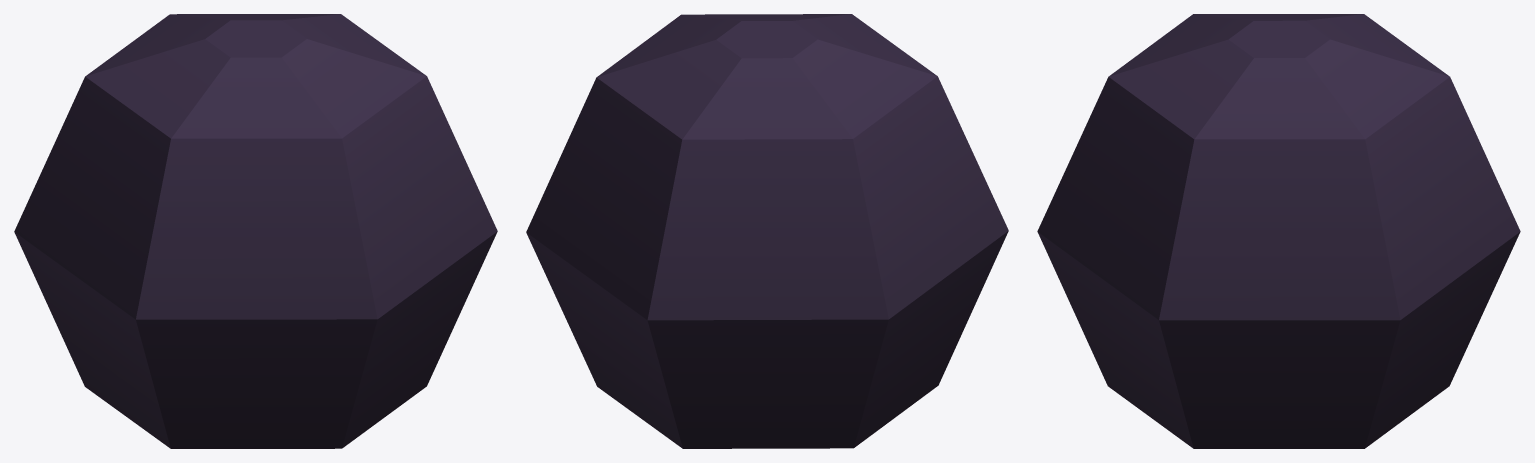
The model's file is Blackberry Piece.fbx.
3 views of the same model, side by side, from view 1: azimuth 30°, elevation 25°; view 2: azimuth 150°, elevation 25°; view 3: azimuth 270°, elevation 25° (orthographic).
Parts seen in each view (by area): view 1: Blackberry Piece; view 2: Blackberry Piece; view 3: Blackberry Piece.
Boxes of the visible parts, x1,y1,x2,y2 form: Blackberry Piece: (14,14,497,448); Blackberry Piece: (526,14,1008,448); Blackberry Piece: (1037,14,1520,448).
Bounding box in the file's own units: 4.43 × 4.44 × 5.11.
